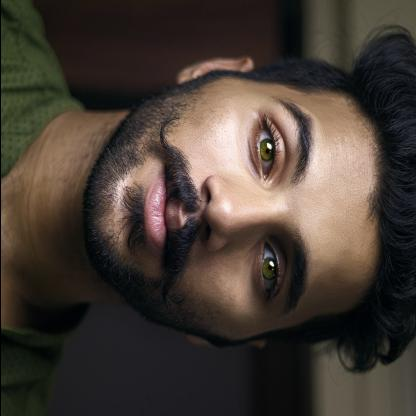Eye: (247, 111, 289, 190), (250, 230, 289, 305)
Mouth: (141, 158, 181, 274)
Nose: (199, 174, 273, 255)
